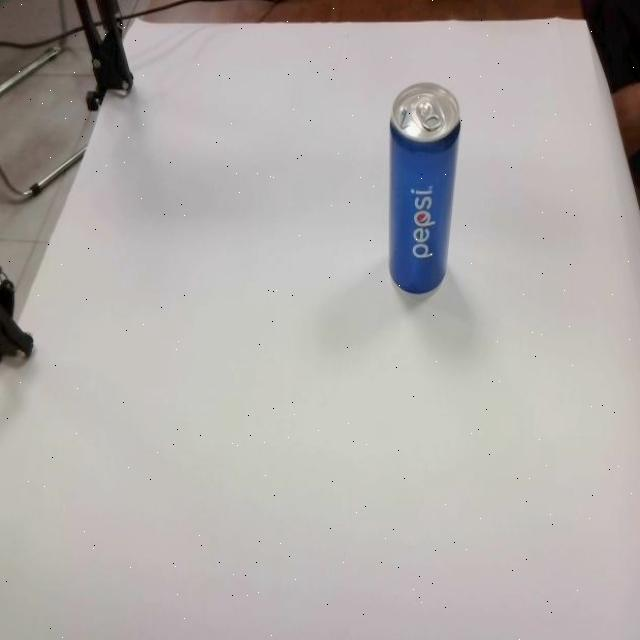debris: (388, 82, 463, 294)
